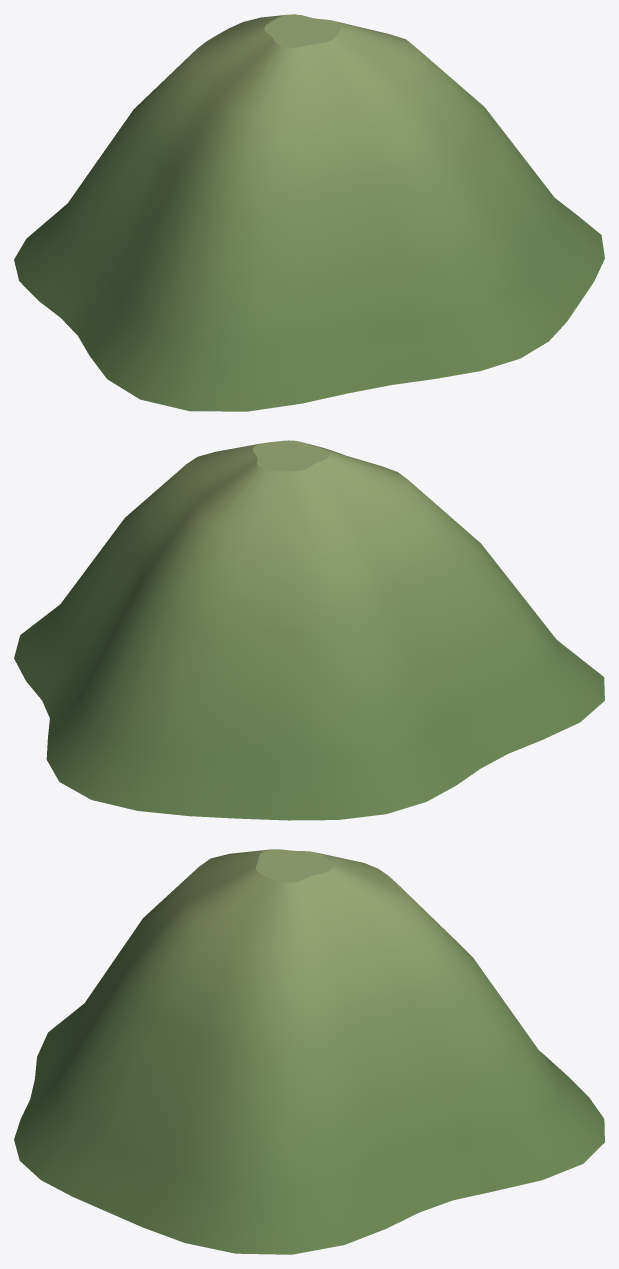
File: bank.glb
3 renders of one model, top to bottom at view 1: azimuth 30°, elevation 25°; view 2: azimuth 150°, elevation 25°; view 3: azimuth 270°, elevation 25°, orthographic. The views are drawn at different scales.
Parts seen in each view (by area): view 1: Bank; view 2: Bank; view 3: Bank.
Boxes of the visible parts, box(x1,y1,x2,y2) form: Bank: box(14, 14, 604, 411); Bank: box(14, 440, 604, 820); Bank: box(14, 849, 604, 1254).
Bounding box in the file's own units: 2.09 × 0.96 × 2.02.
